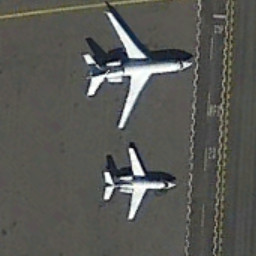Airplane: (74, 5, 201, 138), (95, 143, 184, 226)
